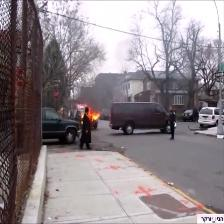fire: (77, 104, 106, 131)
nofire: (48, 83, 61, 105)
